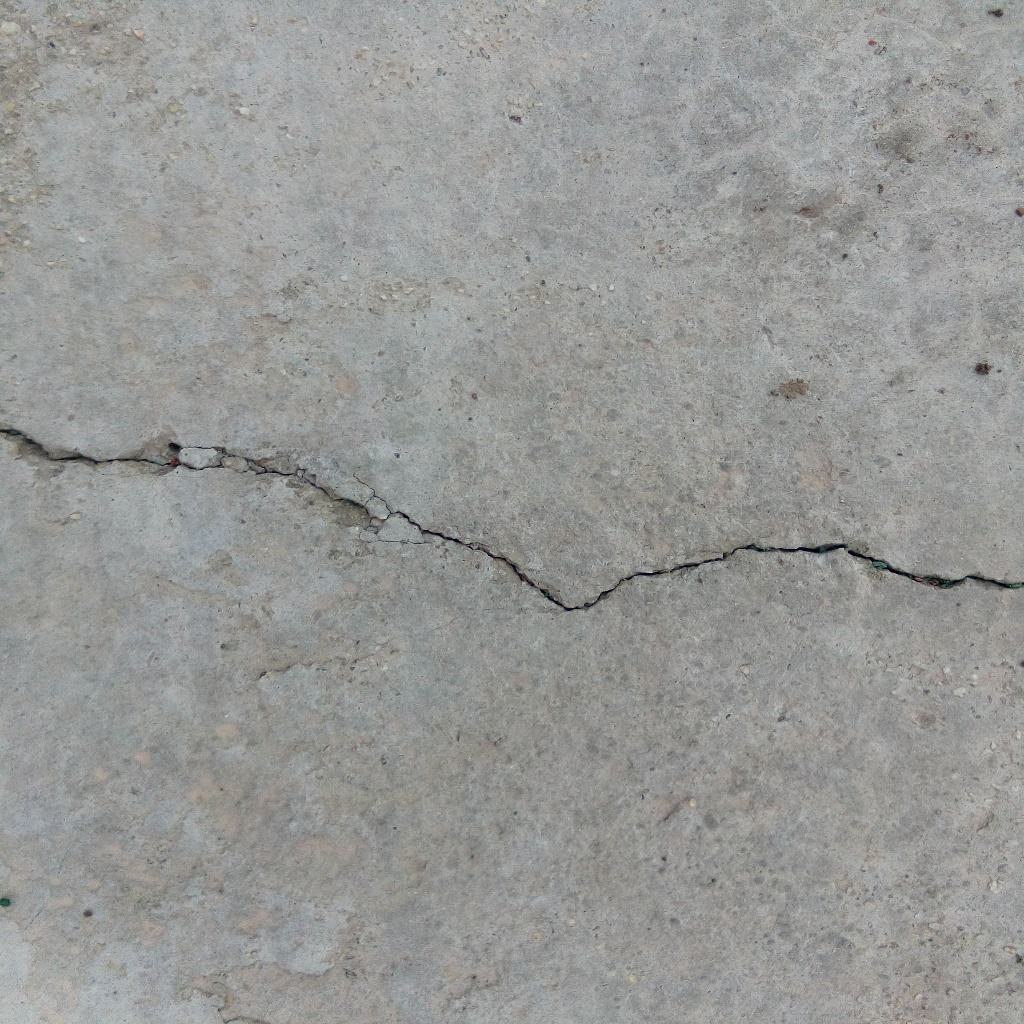Crack: (1, 426, 1024, 613)
